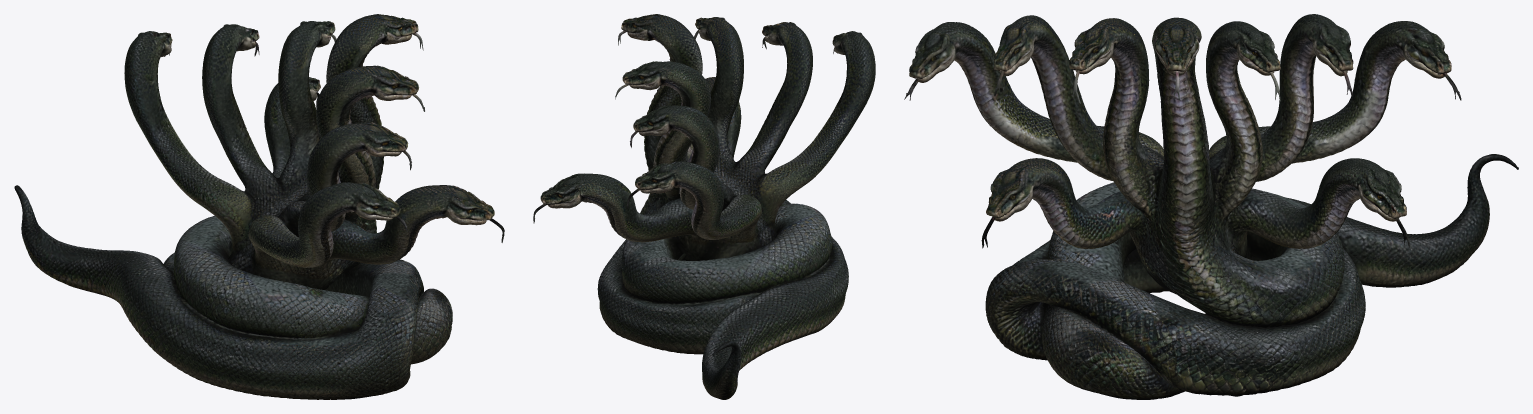
Rendered from xiangliu.glb.
The picture shows the model from 3 angles, left to right: view 1: azimuth 30°, elevation 25°; view 2: azimuth 150°, elevation 25°; view 3: azimuth 270°, elevation 25°; orthographic projection. The views are drawn at different scales.
Parts seen in each view (by area): view 1: tripo_node_4041d5b3-0551-425a-9256-ce4f4f7ad105; view 2: tripo_node_4041d5b3-0551-425a-9256-ce4f4f7ad105; view 3: tripo_node_4041d5b3-0551-425a-9256-ce4f4f7ad105.
Boxes of the visible parts, box(x1,y1,x2,y2) form: tripo_node_4041d5b3-0551-425a-9256-ce4f4f7ad105: box(14, 14, 504, 399); tripo_node_4041d5b3-0551-425a-9256-ce4f4f7ad105: box(533, 14, 875, 399); tripo_node_4041d5b3-0551-425a-9256-ce4f4f7ad105: box(904, 14, 1518, 399).
Bounding box in the file's own units: 0.5754 × 0.6298 × 0.9838.
1 material, 1 textured.
